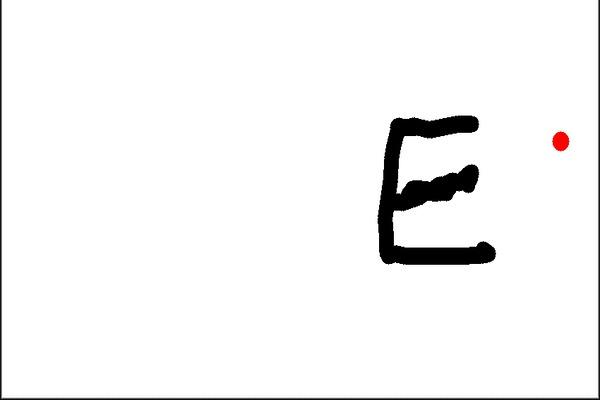E: (369, 109, 499, 275)
